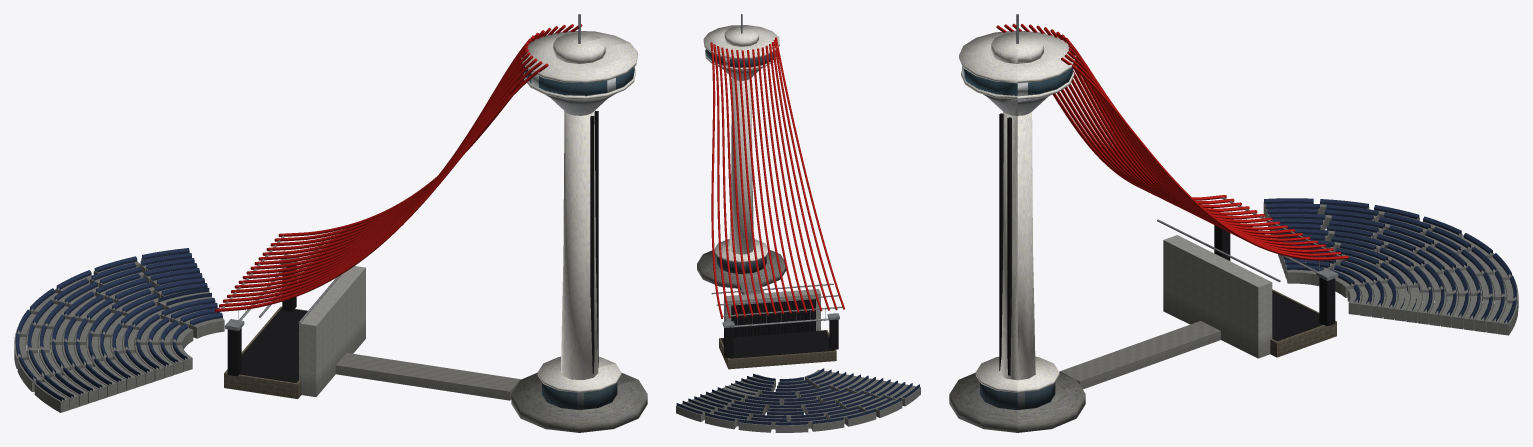
The model's file is cota.glb.
3 views of the same model, side by side, from view 1: azimuth 30°, elevation 25°; view 2: azimuth 150°, elevation 25°; view 3: azimuth 270°, elevation 25° (orthographic). The views are drawn at different scales.
Visible parts, largest first — view 1: core, house, plinth, ramp, deck_roof, floor, lobby_roof, veil0, deck, crown, deck_glass, lobby (+16 smaller); view 2: core, backdrop, floor, plinth, deck, deck_roof, house, veil15, veil1, veil16, veil0, veil3 (+25 smaller); view 3: house, core, plinth, ramp, deck_roof, lobby_roof, floor, deck_glass, crown, veil16, lobby, slot1 (+20 smaller).
Boxes of the visible parts, x1=… form: core: x1=561, y1=111, x2=598, y2=379; house: x1=299, y1=266, x2=365, y2=396; plinth: x1=511, y1=372, x2=647, y2=432; ramp: x1=335, y1=353, x2=520, y2=400; deck_roof: x1=521, y1=31, x2=637, y2=83; floor: x1=227, y1=307, x2=307, y2=382; lobby_roof: x1=537, y1=356, x2=621, y2=392; veil0: x1=215, y1=63, x2=548, y2=312; deck: x1=224, y1=306, x2=307, y2=398; crown: x1=553, y1=32, x2=605, y2=63; deck_glass: x1=524, y1=66, x2=634, y2=96; lobby: x1=542, y1=382, x2=617, y2=409; core: x1=729, y1=78, x2=753, y2=254; backdrop: x1=731, y1=299, x2=815, y2=337; floor: x1=721, y1=330, x2=834, y2=358; plinth: x1=697, y1=250, x2=786, y2=288; deck: x1=719, y1=330, x2=836, y2=369; deck_roof: x1=703, y1=25, x2=779, y2=59; house: x1=724, y1=289, x2=820, y2=330; veil15: x1=713, y1=44, x2=730, y2=318; veil1: x1=773, y1=39, x2=837, y2=310; veil16: x1=710, y1=42, x2=722, y2=318; veil0: x1=775, y1=37, x2=845, y2=309; veil3: x1=769, y1=44, x2=822, y2=311; house: x1=1163, y1=235, x2=1272, y2=358; core: x1=999, y1=112, x2=1035, y2=380; plinth: x1=949, y1=372, x2=1085, y2=432; ramp: x1=1059, y1=321, x2=1220, y2=389; deck_roof: x1=959, y1=30, x2=1076, y2=83; lobby_roof: x1=975, y1=356, x2=1059, y2=392; floor: x1=1272, y1=290, x2=1323, y2=341; deck_glass: x1=962, y1=66, x2=1073, y2=96; crown: x1=991, y1=32, x2=1043, y2=63; veil16: x1=1061, y1=57, x2=1348, y2=260; lobby: x1=980, y1=382, x2=1055, y2=409; slot1: x1=1007, y1=117, x2=1011, y2=375.
Size of the model in its own units: 101 by 82.5 by 109.
11 materials, 11 textured.
